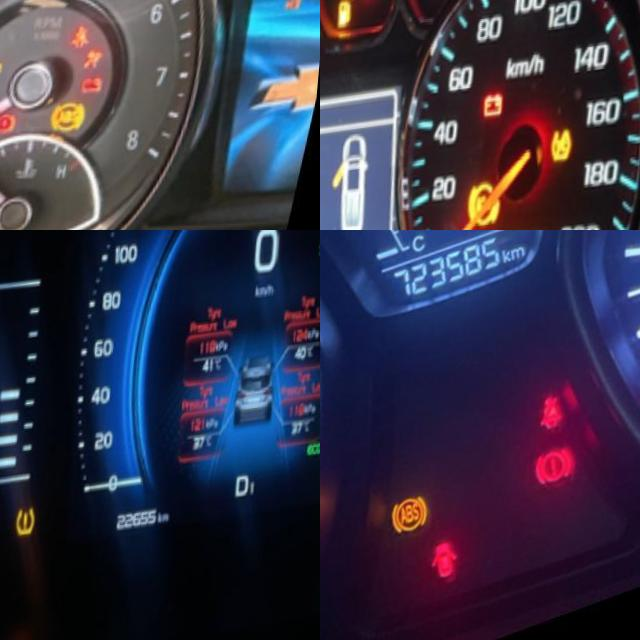Doors: (430, 537, 481, 599)
Low fuel level: (337, 2, 358, 40)
security: (285, 3, 311, 32)
